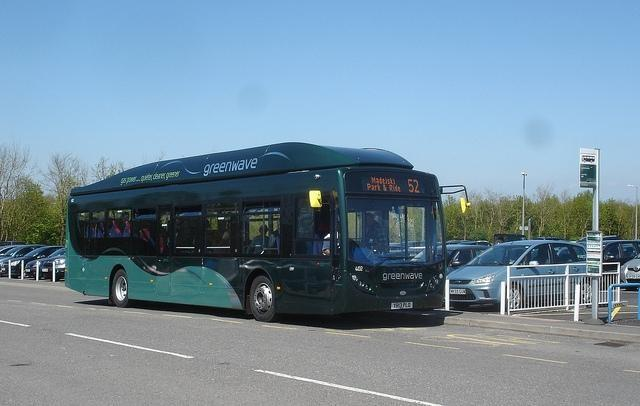bus: (58, 134, 470, 333)
car: (446, 240, 586, 311), (410, 245, 491, 276), (10, 245, 64, 277), (0, 244, 47, 274), (26, 248, 66, 279), (602, 240, 640, 265), (620, 252, 640, 291), (54, 254, 66, 282), (0, 245, 21, 256)
